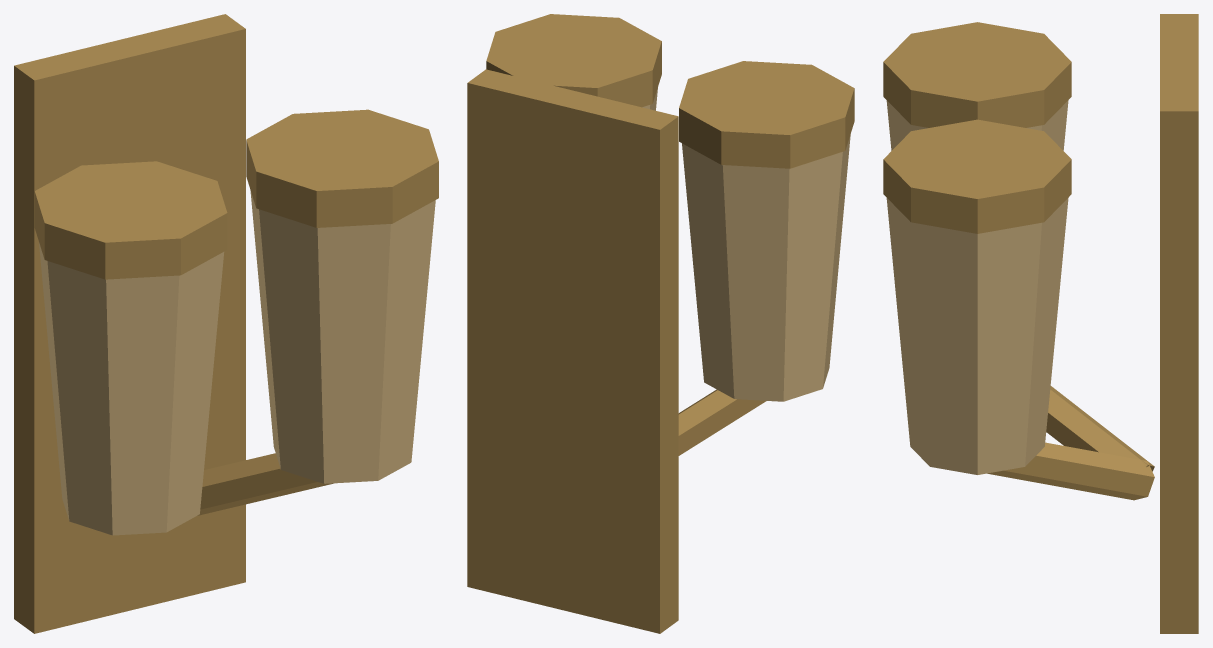
File: salon_sconce.glb
The picture shows the model from 3 angles, left to right: view 1: azimuth 30°, elevation 25°; view 2: azimuth 150°, elevation 25°; view 3: azimuth 270°, elevation 25°; orthographic projection. The views are drawn at different scales.
Visible parts, largest first — view 1: Palette; view 2: Palette; view 3: Palette.
Boxes of the visible parts, x1,y1,x2,y2 form: Palette: [14, 14, 438, 633]; Palette: [467, 14, 854, 633]; Palette: [883, 14, 1198, 633].
Size of the model in its own units: 0.436 by 0.6 by 0.328.
